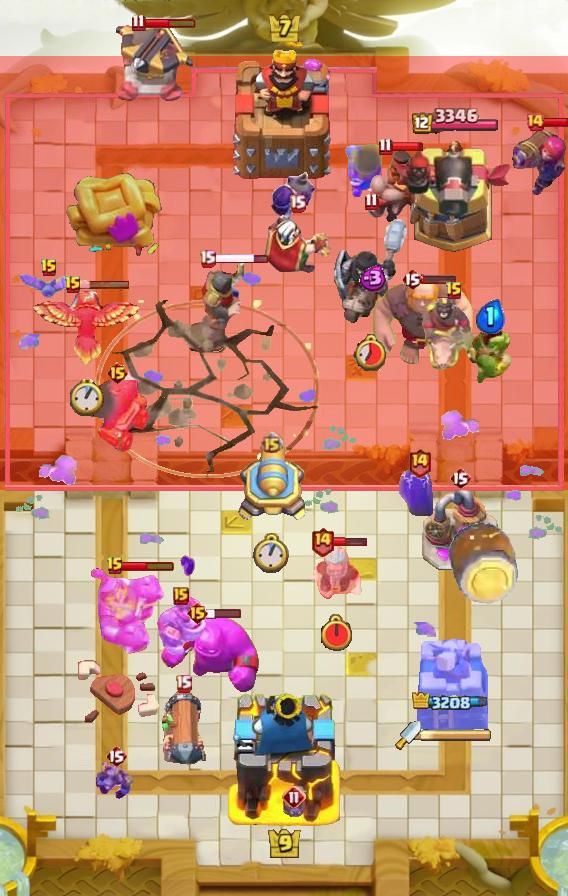balloon: (370, 276, 478, 368)
bar: (416, 637, 490, 731)
barbarian: (17, 274, 81, 300)
barbarian-barrel: (279, 797, 309, 819)
battle-healer: (158, 689, 208, 777)
bomb-tower: (344, 143, 384, 199)
clone: (159, 613, 267, 695)
dirt: (447, 521, 523, 605)
electro-spirit: (475, 299, 505, 334), (357, 265, 388, 291)
elite-barbarian: (364, 148, 430, 224)
elixir: (253, 534, 289, 575), (353, 333, 389, 371), (318, 614, 353, 653), (70, 378, 104, 416)
elixir-golem-small: (154, 595, 208, 655)
emote: (214, 251, 269, 264), (144, 17, 197, 29), (121, 560, 174, 572), (79, 278, 131, 289), (421, 273, 457, 285), (206, 607, 242, 619), (332, 537, 367, 548), (390, 140, 424, 151), (544, 116, 568, 128)
firecracker: (201, 261, 243, 330)
flying-machine: (467, 327, 513, 383)
freeze: (418, 295, 490, 373)
goblin-ball: (270, 170, 316, 228)
golden-knight: (31, 289, 143, 369)
guard: (95, 301, 319, 480)
inferno-dragon: (330, 216, 412, 326)
king-tower: (226, 688, 342, 826), (229, 43, 339, 181)
king-tower-bar: (421, 728, 493, 742)
lava-pup: (111, 25, 193, 105)
mega-minion: (510, 120, 568, 198)
mortar: (307, 539, 365, 603)
pekka: (421, 490, 499, 572)
royal-delivery: (95, 760, 137, 800)
royal-giant-evolution: (83, 380, 151, 454)
royal-guardian: (90, 567, 168, 657)
royal-recruit: (233, 445, 309, 525)
selected: (410, 108, 499, 136), (412, 692, 494, 714)
skeleton-king: (262, 209, 332, 277)
spear-goblin: (399, 466, 439, 516)
text: (309, 527, 334, 558), (408, 447, 433, 477), (282, 785, 306, 809), (106, 361, 129, 385), (187, 601, 210, 625), (260, 431, 283, 454), (401, 267, 423, 291), (449, 466, 471, 490), (105, 744, 127, 768), (525, 112, 545, 132), (40, 258, 58, 278), (64, 275, 82, 295), (445, 281, 463, 301), (106, 556, 124, 576), (289, 195, 307, 214), (199, 248, 217, 267), (176, 675, 193, 693), (173, 587, 189, 605), (131, 13, 146, 32), (378, 136, 393, 155), (365, 192, 380, 211)
tower-bar: (392, 138, 514, 256)
